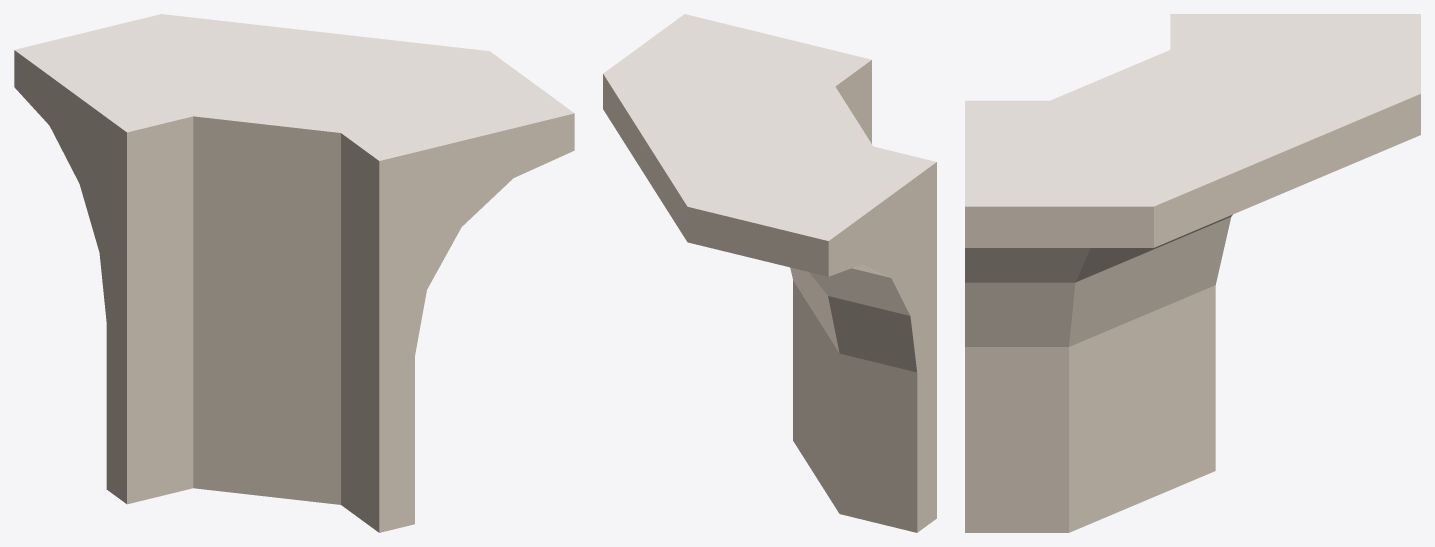
File: temple_Wall_Arch_Corner_Outer.glb
3 renders of one model, left to right at view 1: azimuth 30°, elevation 25°; view 2: azimuth 150°, elevation 25°; view 3: azimuth 270°, elevation 25°, orthographic. The views are drawn at different scales.
Parts seen in each view (by area): view 1: object1; view 2: object1; view 3: object1.
Part boxes in pixels (x1,y1,x2,y2): object1: (14, 14, 574, 532); object1: (603, 14, 936, 532); object1: (965, 14, 1420, 532).
Bounding box in the file's own units: 2 × 2 × 2.
